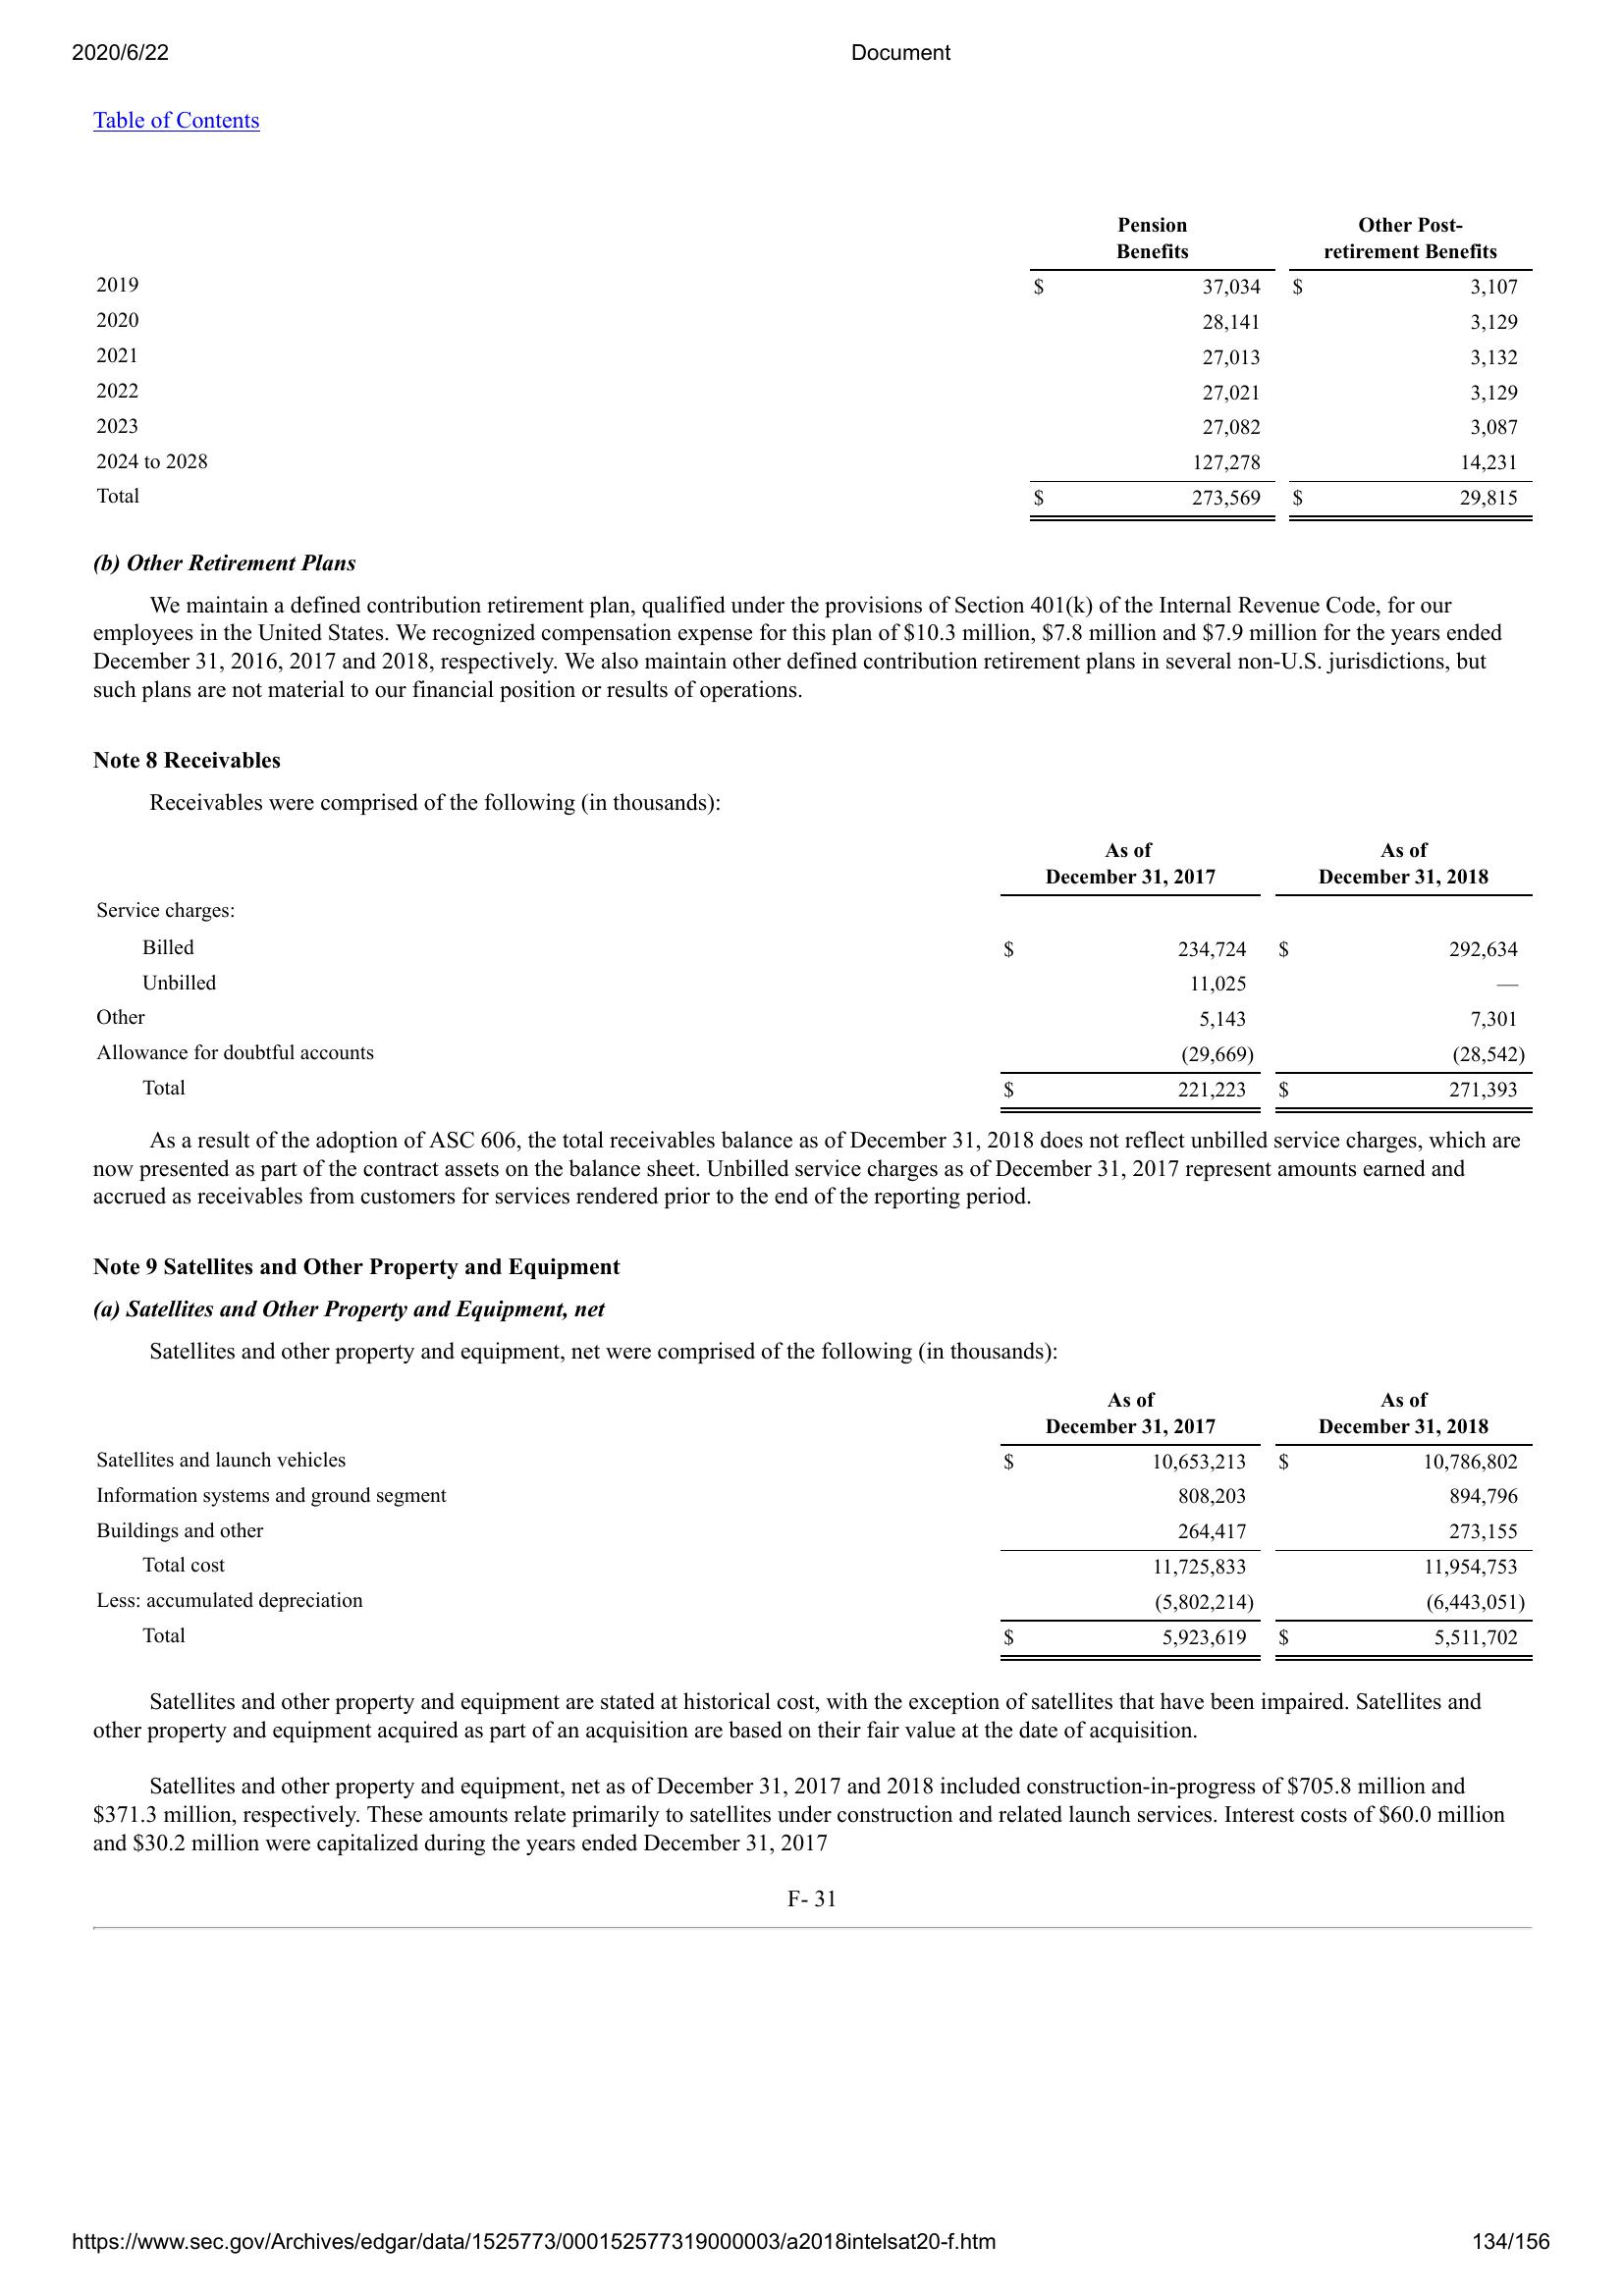table: (79, 216, 1540, 532), (90, 1381, 1551, 1668), (95, 836, 1546, 1120)
